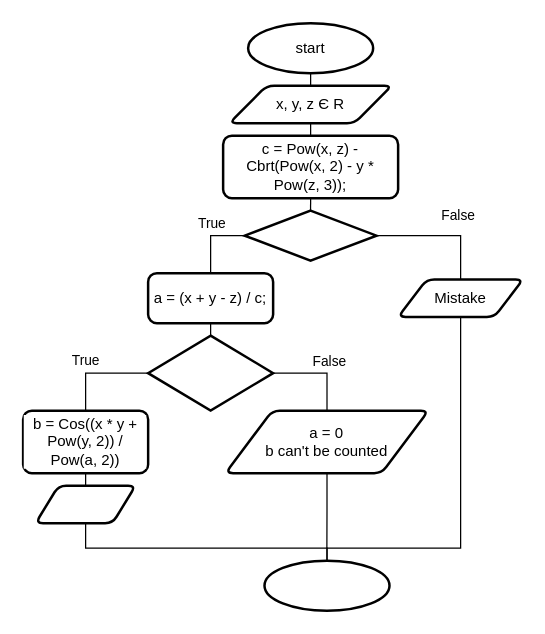
Image size: 545x634. Some labels were removed from this diagram. Each missing label, with the box of its shape:
a ≠ 0: (146, 334, 274, 411)
a, b: (34, 484, 136, 524)
c ≠ 0: (243, 209, 377, 261)
end: (263, 559, 390, 611)
